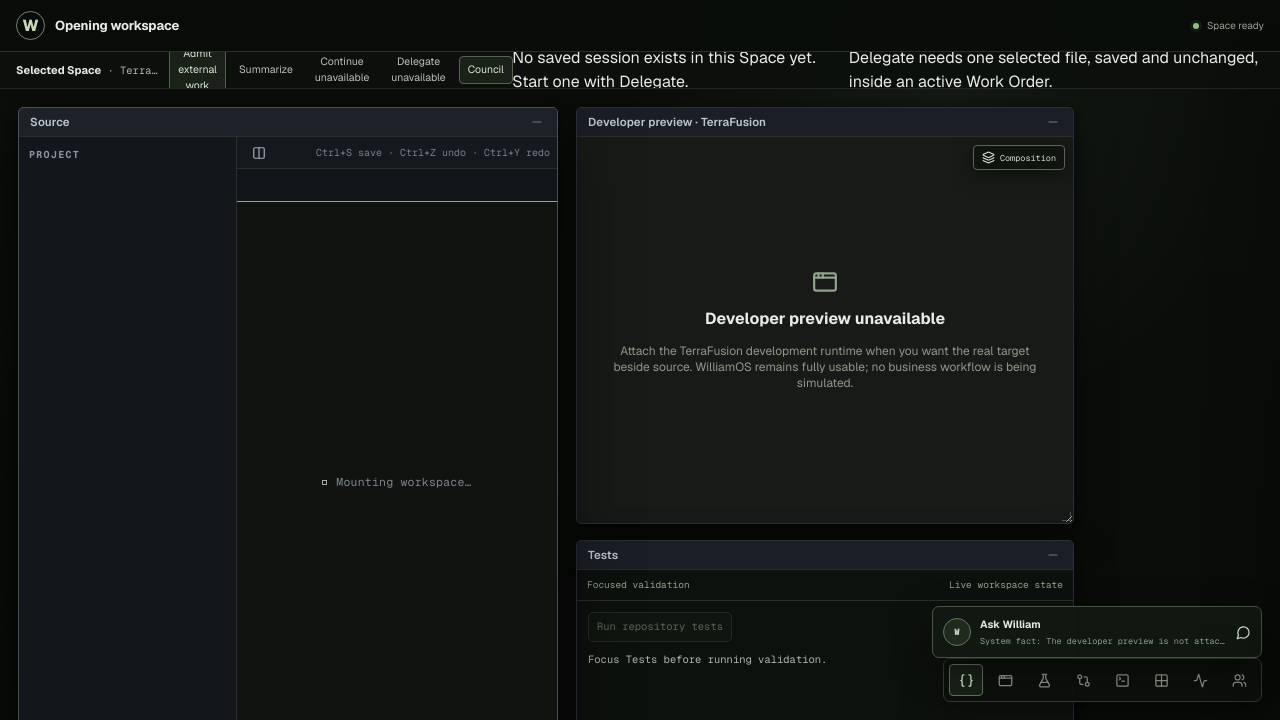
Test: Experience V2 multi-Space re-entry › keeps an initial degraded collection truthful as the exact singleton the server returned
Click the button named "Open Mission Control" at (1161,680), box [1144,664,1178,696]
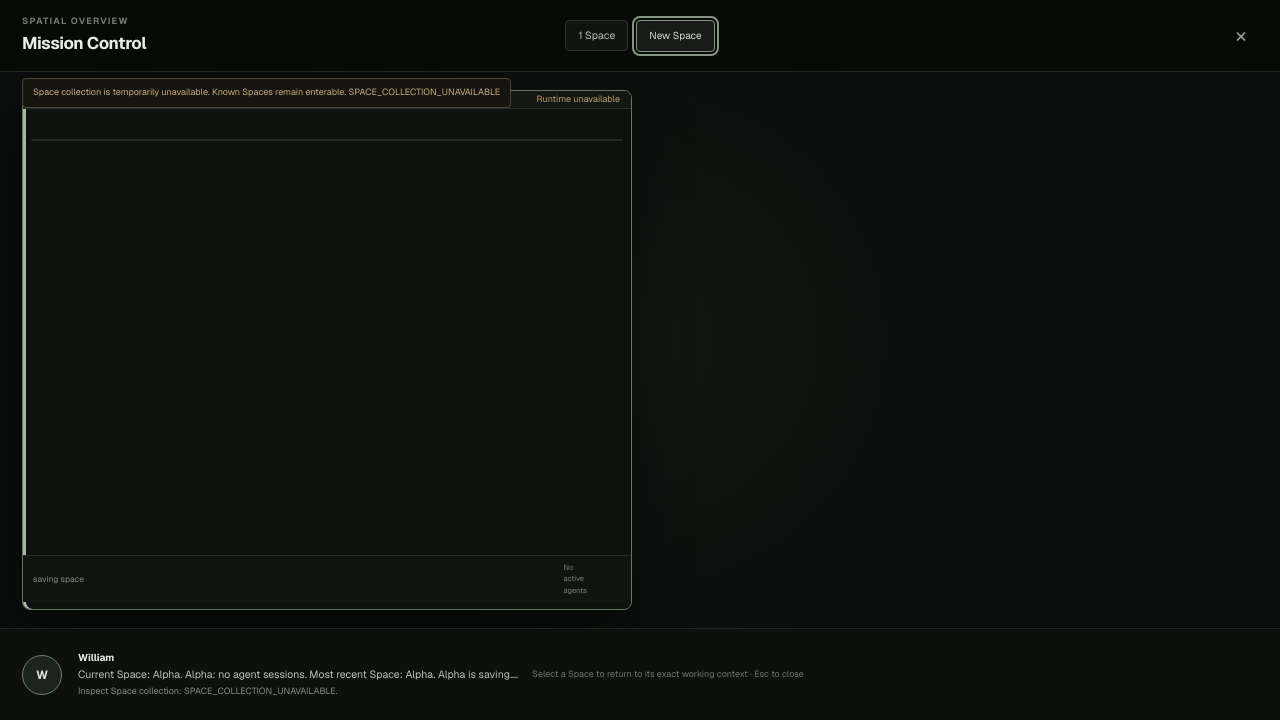
Expected: the button with aria-label "Enter Alpha, current Space" is shown, [22,90,632,610]
